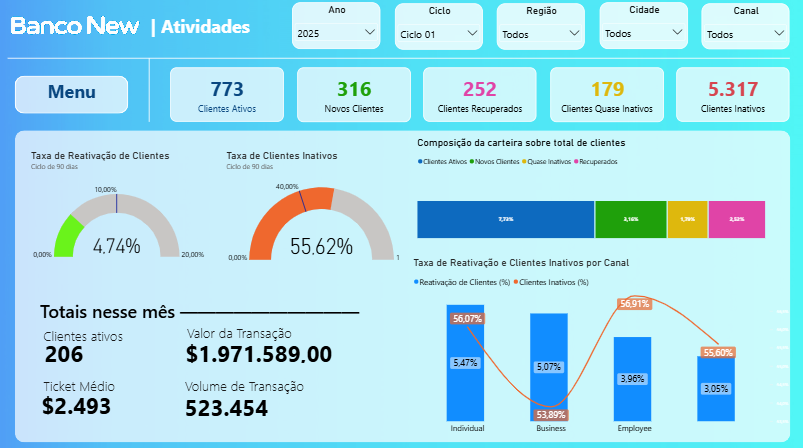

This screenshot's page, from the dashboard's own definition file:
{"tool":"powerbi","page":{"name":"Atividades","canvas":[1920,1080],"ordinal":1},"visuals":[{"type":"shape","box":[40,316.7,1846.7,743.3],"z":0},{"type":"card","title":"Clientes Ativos","fields":{"Values":["_medidas.volume_transacionado"]},"box":[420,807.5,402,80],"z":0,"group":"g2"},{"type":"slicer","title":"Ciclo","fields":{"Values":["fat_transaction.Ciclo"]},"box":[944.9,13.9,210,110.6],"z":1000},{"type":"textbox","box":[450,777.5,338,42],"z":1000,"group":"g2"},{"type":"slicer","title":"Ano","fields":{"Values":["fat_transaction.Transaction_Date.Variação.Hierarquia de datas.Ano"]},"box":[701.1,13.7,210.6,111],"z":2000},{"type":"card","title":"Clientes Ativos","fields":{"Values":["_medidas.clientes_ativos_60d"]},"box":[410,167.7,270.7,129.6],"z":3000},{"type":"card","title":"Novos Clientes","fields":{"Values":["_medidas.clientes_novos_60d"]},"box":[711.8,167.5,270,130],"z":4000},{"type":"card","fields":{"Values":["_medidas.clientes_quase_inativos"]},"box":[1313.9,167.5,270,130],"z":5000},{"type":"card","fields":{"Values":["_medidas.clientes_elegiveis_recuperacao"]},"box":[1615,167.5,270,130],"z":6000},{"type":"card","fields":{"Values":["_medidas.clientes_recuperados_90d"]},"box":[1012.9,167.5,270,130],"z":7000},{"type":"slicer","title":"Região","fields":{"Values":["dim_customer.Region"]},"box":[1188.2,13.9,210,110.6],"z":8000},{"type":"slicer","title":"Cidade","fields":{"Values":["dim_customer.City"]},"box":[1431.4,13.7,210.6,111],"z":9000},{"type":"gauge","title":"Taxa de Reativação de Clientes","fields":{"MaxValue":["_medidas.max_reativacao"],"TargetValue":["_medidas.meta_reativacao"],"Y":["_medidas.taxa_reativacao"]},"box":[62.5,347.1,448.9,300],"z":10000},{"type":"gauge","title":"Taxa de Clientes Inativos","fields":{"MaxValue":["_medidas.max_inatividade"],"TargetValue":["_medidas.meta_inatividade"],"Y":["_medidas.taxa_inatividade_90d"]},"box":[527.6,347.1,450,300],"z":11000},{"type":"lineClusteredColumnComboChart","title":"Taxa de Reativação e Clientes Inativos por Canal","fields":{"Category":["dim_customer.Customer_Type"],"Y":["_medidas.taxa_reativacao"],"Y2":["_medidas.taxa_inatividade_90d"]},"box":[972.5,602.5,947.5,457.5],"z":12000},{"type":"slicer","title":"Canal","fields":{"Values":["dim_customer.Customer_Type"]},"box":[1675.2,14.2,210,110],"z":13000},{"type":"image","box":[20,0,327.5,135],"z":14000},{"type":"textbox","box":[362.5,40,327.5,75],"z":15000},{"type":"barChart","title":"Composição da carteira sobre total de clientes","fields":{"Y":["_medidas.perc_ativos_carteira","_medidas.perc_novos_carteira","_medidas.perc_quase_inativos_carteira","_medidas.perc_recuperados_carteira"]},"box":[983.3,316.7,903.3,343.3],"z":16000},{"type":"shape","box":[23.1,124.9,1862.7,41.6],"z":17000},{"type":"shape","box":[40,187.5,270,90],"z":18000},{"type":"shape","box":[310,145,100,152.5],"z":19000},{"type":"textbox","box":[39.3,194.4,270.7,74],"z":20000},{"type":"shape","box":[40,187.5,270,90],"z":21000},{"type":"card","title":"Clientes Ativos","fields":{"Values":["_medidas.volume_transacionado_mes_atual"]},"box":[420,935,248,80],"z":21000,"group":"g1"},{"type":"textbox","box":[100,717.5,765,80],"z":22000},{"type":"card","title":"Clientes Ativos","fields":{"Values":["_medidas.ticket_medio_mes_atual"]},"box":[85,931,204,80],"z":22000,"group":"g4"},{"type":"group","id":"g1","title":"Grupo 1","box":[420,905,362.5,110],"z":23000},{"type":"group","id":"g2","title":"Grupo 2","box":[420,777.5,402.5,110],"z":24000},{"type":"card","title":"Clientes Ativos","fields":{"Values":["_medidas.clientes_ativos_mes_atual"]},"box":[85,807,144,80],"z":24000,"group":"g3"},{"type":"group","id":"g3","title":"Grupo 3","box":[85,785,235,102.5],"z":25000},{"type":"textbox","box":[107,785,214,42],"z":26000,"group":"g3"},{"type":"group","id":"g4","title":"Grupo 4","box":[85,905,225,105],"z":26000},{"type":"textbox","box":[107,905,204,42],"z":27000,"group":"g4"},{"type":"textbox","box":[444,905,338,42],"z":29000,"group":"g1"}]}

Visuals, with their boxes in screenshot pixels (x1, y1, x2, y2), scaled from the page's 1920x1080 canvas onto the 803x448 screenshot:
shape: 17:131:789:440
"Clientes Ativos" card: 176:335:344:368
"Ciclo" slicer: 395:6:483:52
textbox: 188:323:330:340
"Ano" slicer: 293:6:381:52
"Clientes Ativos" card: 171:70:285:123
"Novos Clientes" card: 298:69:411:123
card - _medidas.clientes_quase_inativos: 550:69:662:123
card - _medidas.clientes_elegiveis_recuperacao: 675:69:788:123
card - _medidas.clientes_recuperados_90d: 424:69:537:123
"Região" slicer: 497:6:585:52
"Cidade" slicer: 599:6:687:52
"Taxa de Reativação de Clientes" gauge: 26:144:214:268
"Taxa de Clientes Inativos" gauge: 221:144:409:268
"Taxa de Reativação e Clientes Inativos por Canal" lineClusteredColumnComboChart: 407:250:802:440
"Canal" slicer: 701:6:788:52
image: 8:0:145:56
textbox: 152:17:289:48
"Composição da carteira sobre total de clientes" barChart: 411:131:789:274
shape: 10:52:789:69
shape: 17:78:130:115
shape: 130:60:171:123
textbox: 16:81:130:111
shape: 17:78:130:115
"Clientes Ativos" card: 176:388:279:421
textbox: 42:298:362:331
"Clientes Ativos" card: 36:386:121:419
"Grupo 1" group: 176:375:327:421
"Grupo 2" group: 176:323:344:368
"Clientes Ativos" card: 36:335:96:368
"Grupo 3" group: 36:326:134:368
textbox: 45:326:134:343
"Grupo 4" group: 36:375:130:419
textbox: 45:375:130:393
textbox: 186:375:327:393
